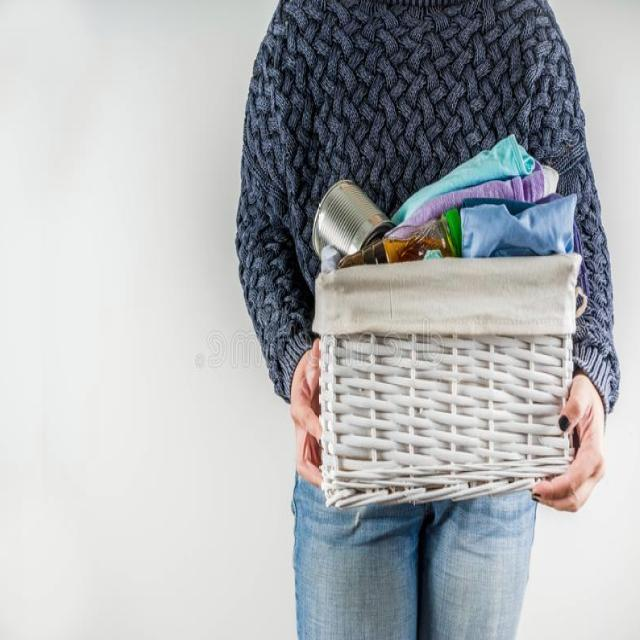clothes: (402, 30, 556, 257)
